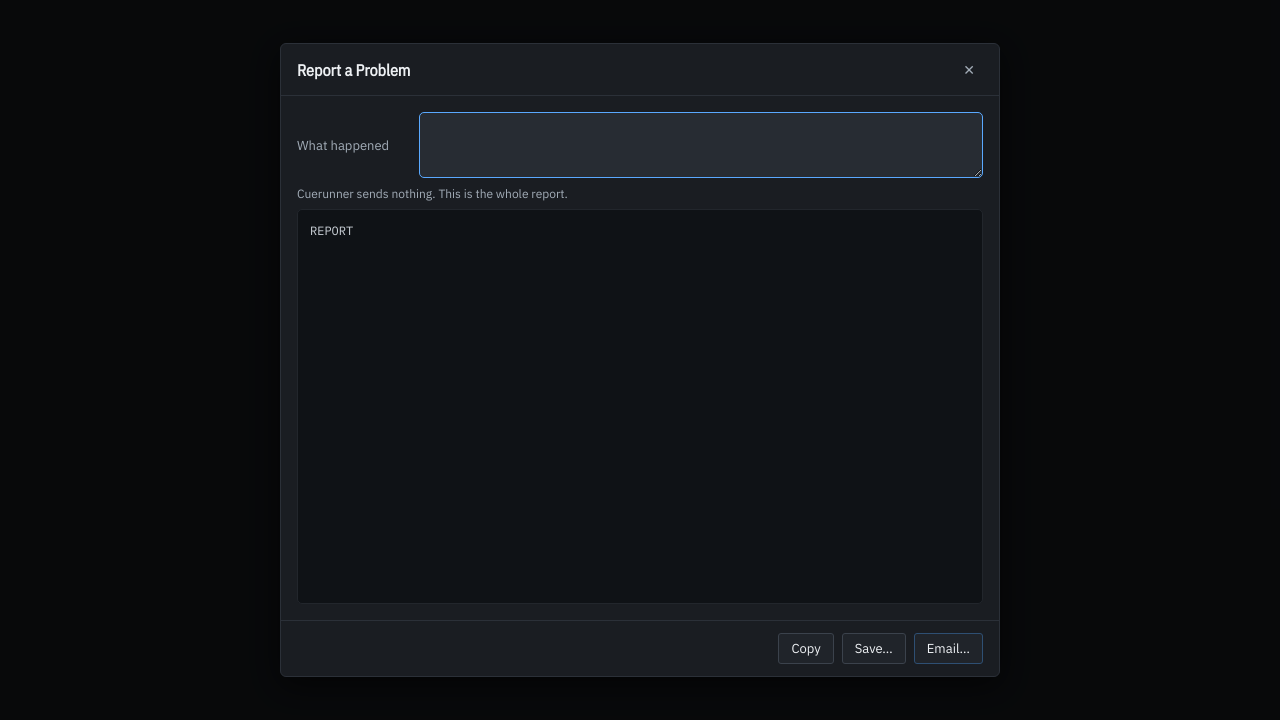
Test: ReportDialog › says what a refusal said rather than pretending the report was saved
The width and height of the screenshot is (1280, 720).
Click the button "Save…". click: click(874, 648)
box: [842,633,906,664]
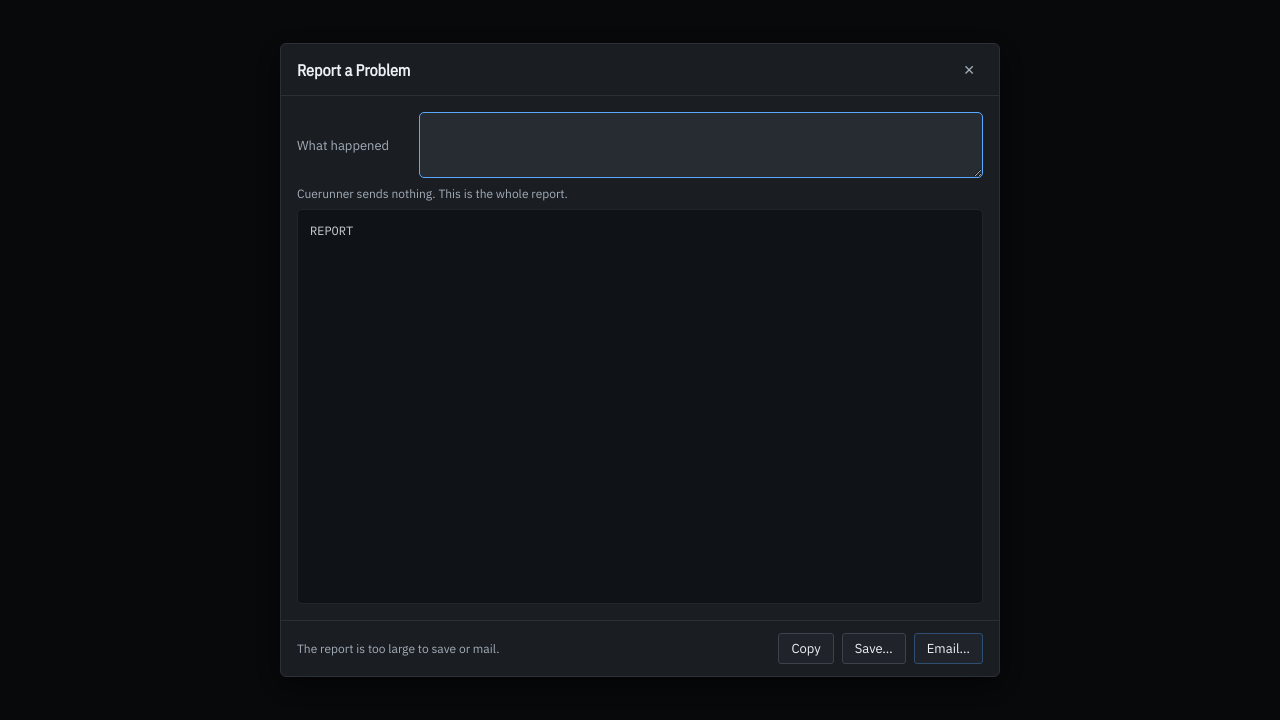
Expected: the message with class "report-status" reads "The report is too large to save or mail.", [297,641,499,656]
